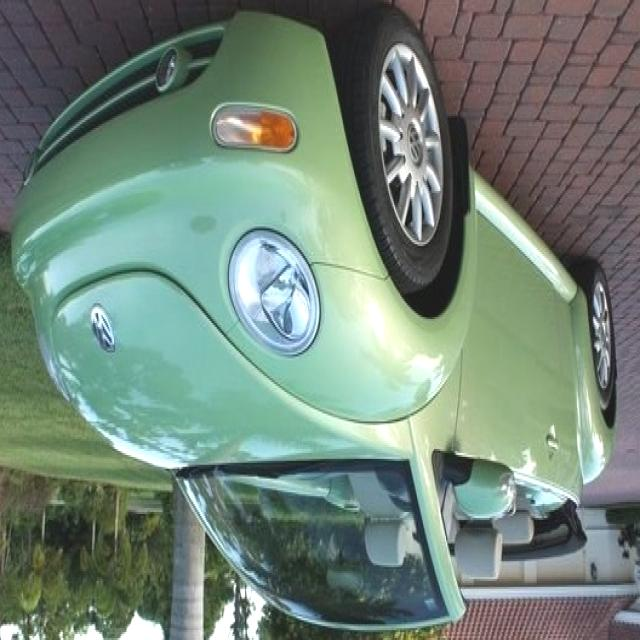green: (12, 8, 617, 640)
